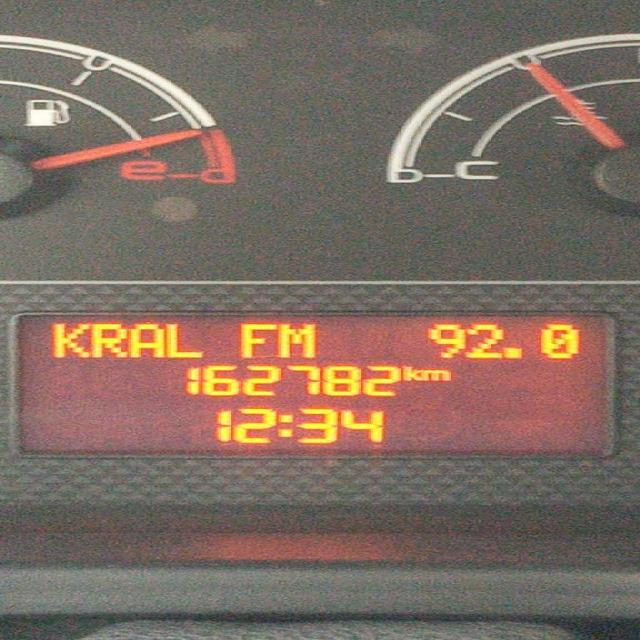odometer: (1, 305, 621, 461)
